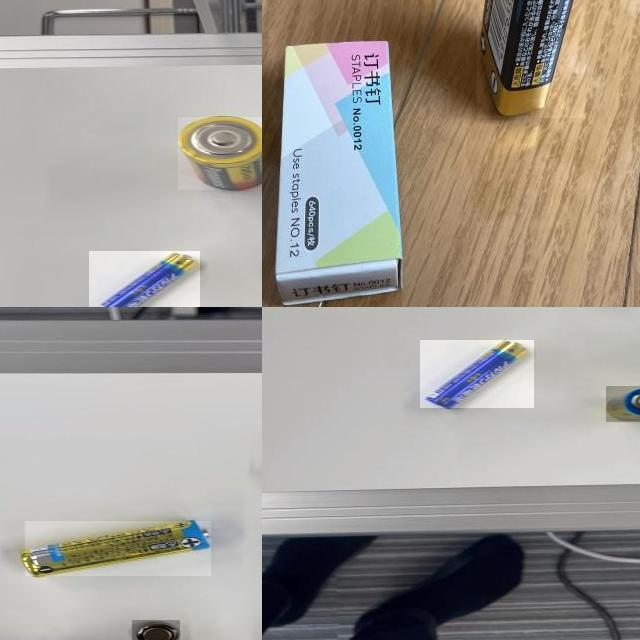9V: (477, 0, 585, 118)
